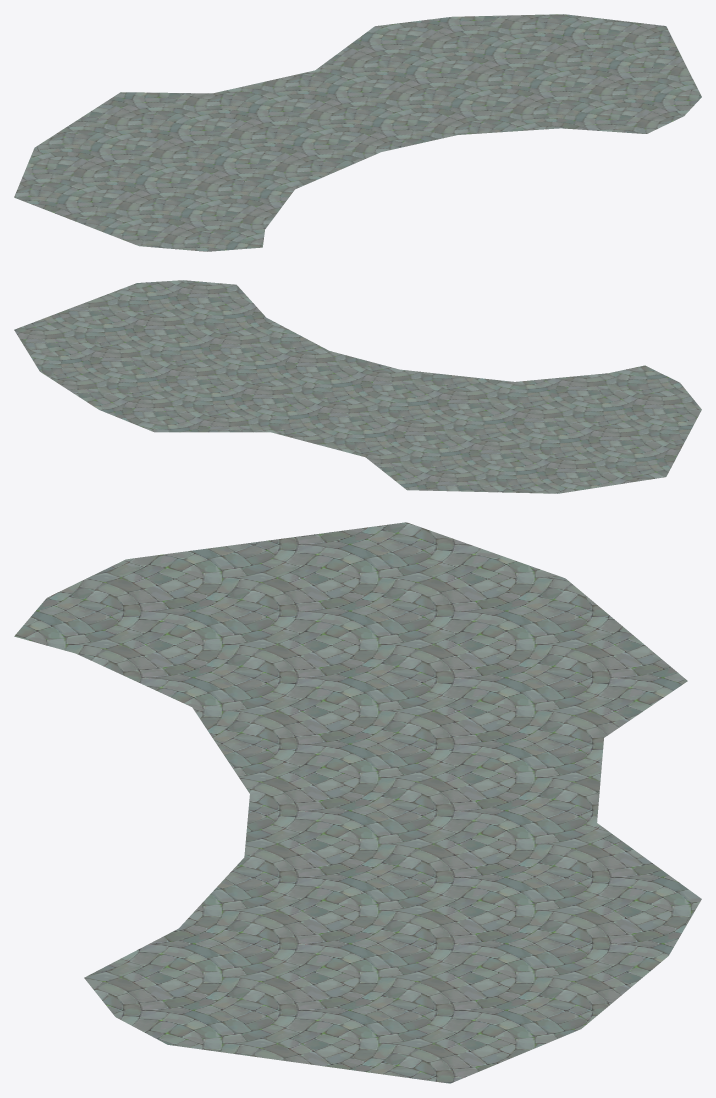
Rendered from Map_06_ground10.FBX.
3 views of the same model, one above another, from view 1: azimuth 30°, elevation 25°; view 2: azimuth 150°, elevation 25°; view 3: azimuth 270°, elevation 25° (orthographic). The views are drawn at different scales.
Parts seen in each view (by area): view 1: Map_06_ground10; view 2: Map_06_ground10; view 3: Map_06_ground10.
Part boxes in pixels (bbox=[...]): Map_06_ground10: bbox=[14, 14, 701, 251]; Map_06_ground10: bbox=[14, 280, 701, 493]; Map_06_ground10: bbox=[14, 522, 701, 1083].
Size of the model in its own units: 5903 by 0.000121 by 3057.
1 material, 1 textured.
